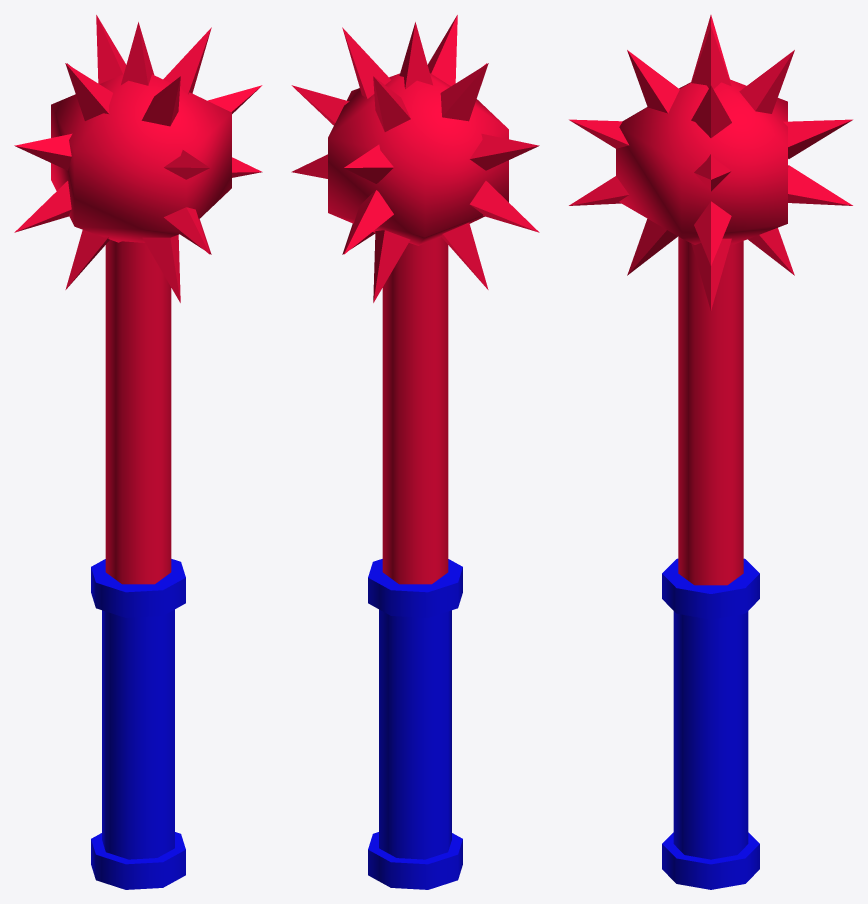
File: CastingRoom_Maze.fbx
The picture shows the model from 3 angles, left to right: view 1: azimuth 30°, elevation 25°; view 2: azimuth 150°, elevation 25°; view 3: azimuth 270°, elevation 25°; orthographic projection.
Parts seen in each view (by area): view 1: CastingRoom_Maze; view 2: CastingRoom_Maze; view 3: CastingRoom_Maze.
Part boxes in pixels (left/top/right/bottom): CastingRoom_Maze: left=14, top=15, right=262, bottom=889; CastingRoom_Maze: left=291, top=15, right=539, bottom=889; CastingRoom_Maze: left=569, top=15, right=852, bottom=889.
Bounding box in the file's own units: 84.46 × 275 × 84.46.
